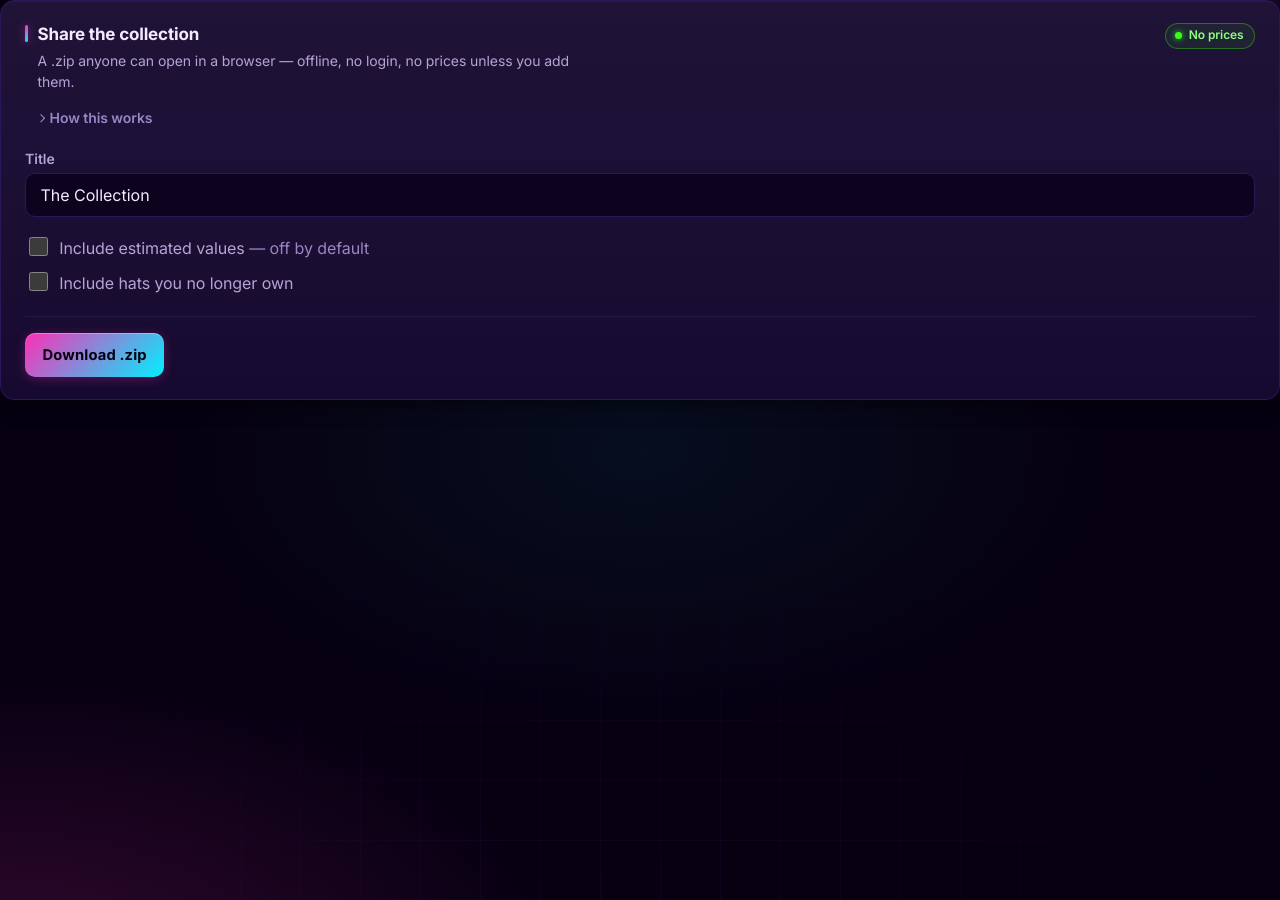
Scenario: CollectionExportCard › says the zip is being built, since the browser shows nothing until it is
The width and height of the screenshot is (1280, 900).
Click the link "Download .zip" at (95, 355), box [25,333,164,377]
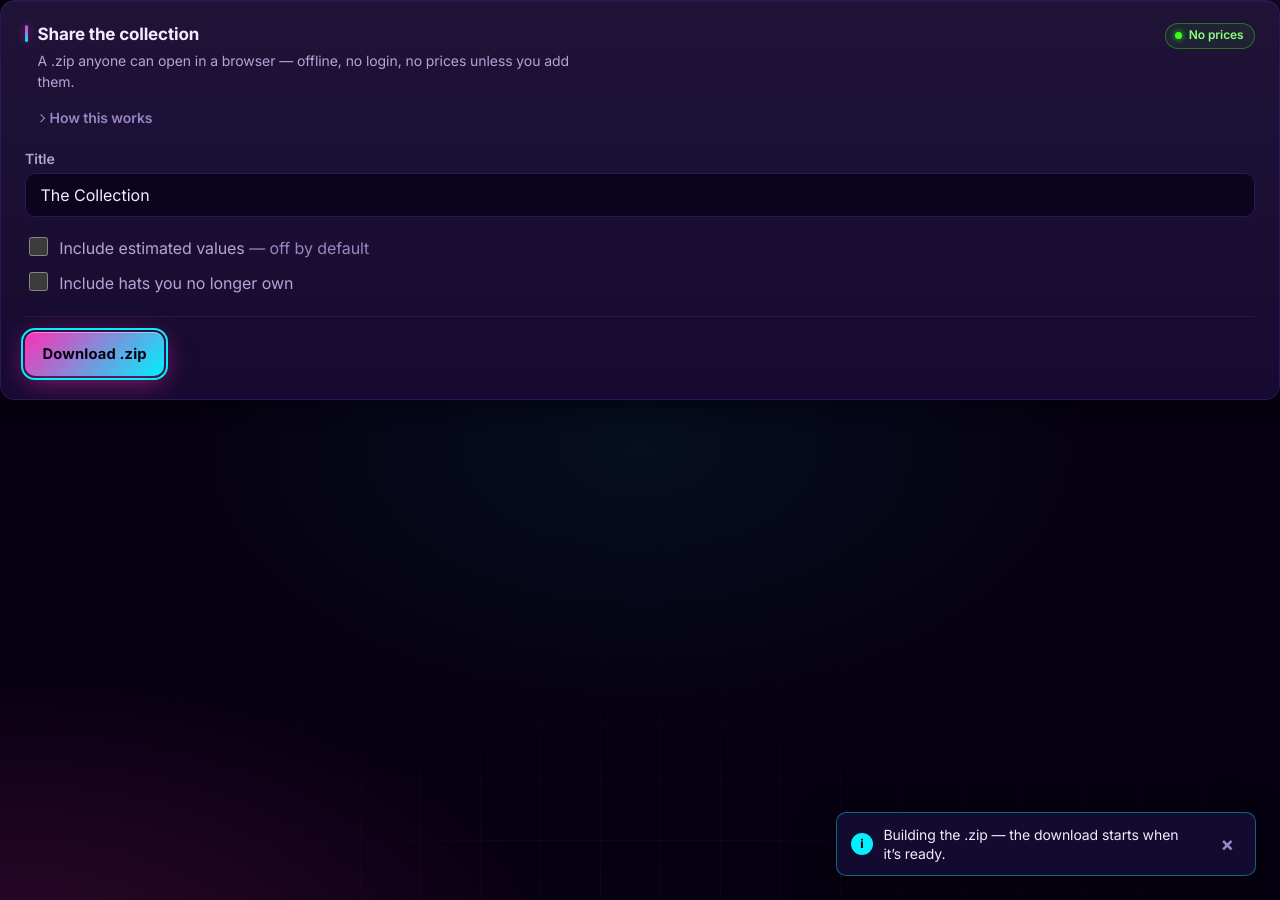
expect the text "Building the .zip — the download starts when it’s ready." is shown: met, box [883,825,1199,864]
